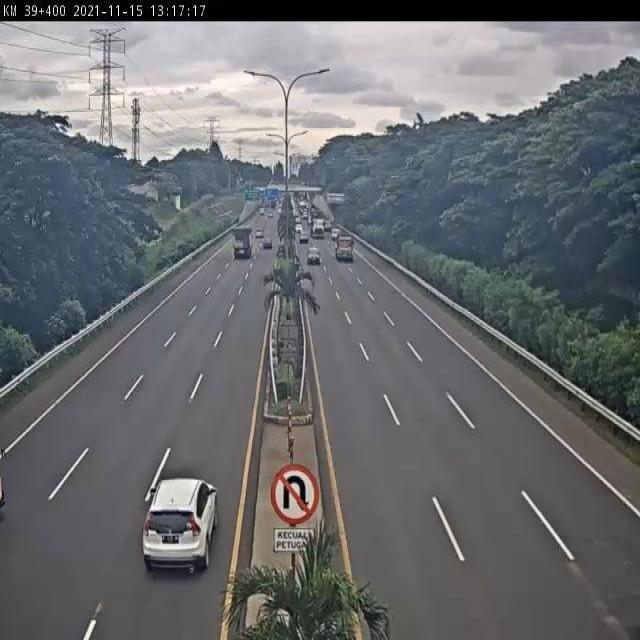car: (141, 476, 219, 571)
